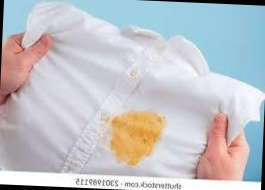mustard: (108, 110, 165, 166)
